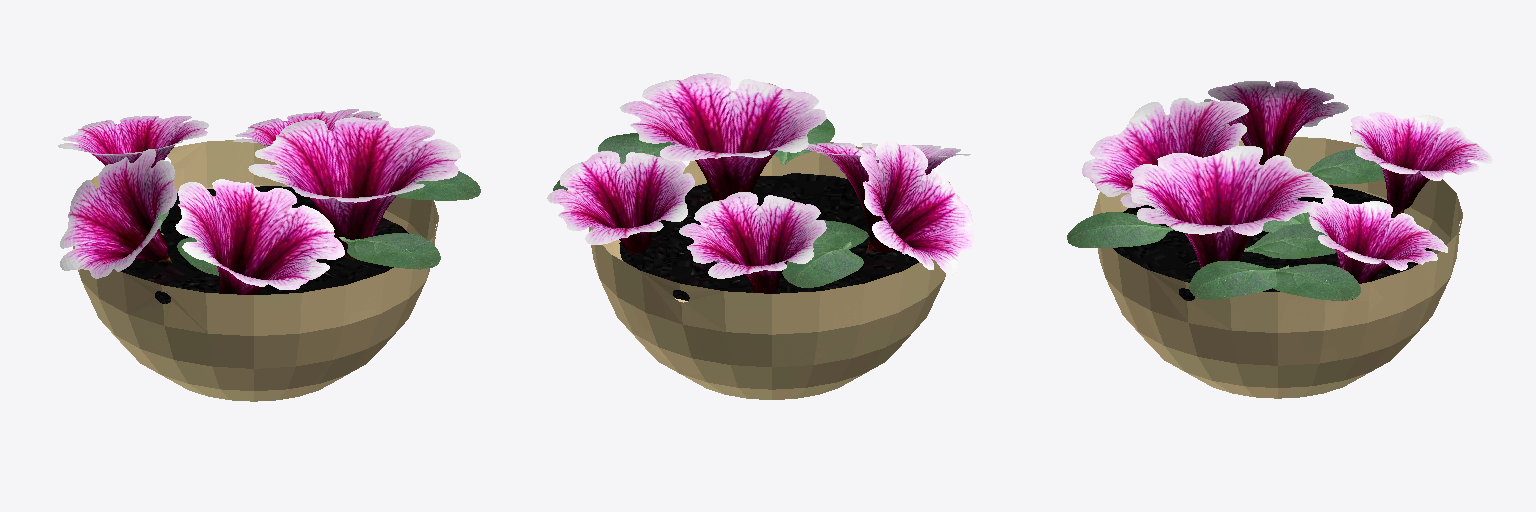
3 views of the same model, side by side, from view 1: azimuth 30°, elevation 25°; view 2: azimuth 150°, elevation 25°; view 3: azimuth 270°, elevation 25° (orthographic).
Visible parts, largest first — view 1: Material2.540; view 2: Material2.540; view 3: Material2.540.
Boxes of the visible parts, <box> form: Material2.540: <box>58,109,480,401</box>; Material2.540: <box>547,73,973,399</box>; Material2.540: <box>1067,81,1492,398</box>.
Bounding box in the file's own units: 9.76 × 6.26 × 9.46.
Materials: 1 (1 with a texture image).